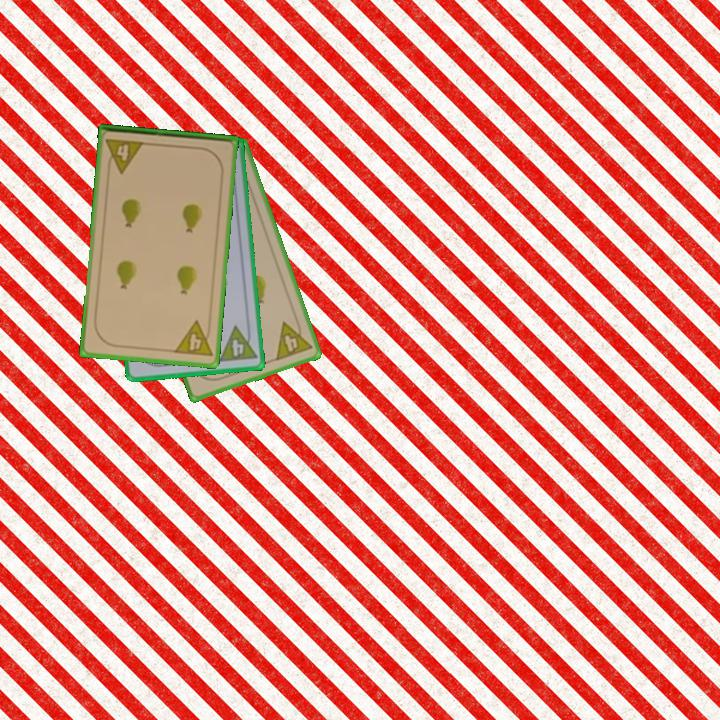4p: (272, 314, 315, 364), (215, 322, 260, 365), (170, 317, 215, 360), (102, 135, 147, 176)
